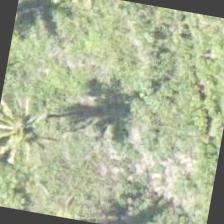Kelapa_Sawit: (0, 77, 72, 178)
